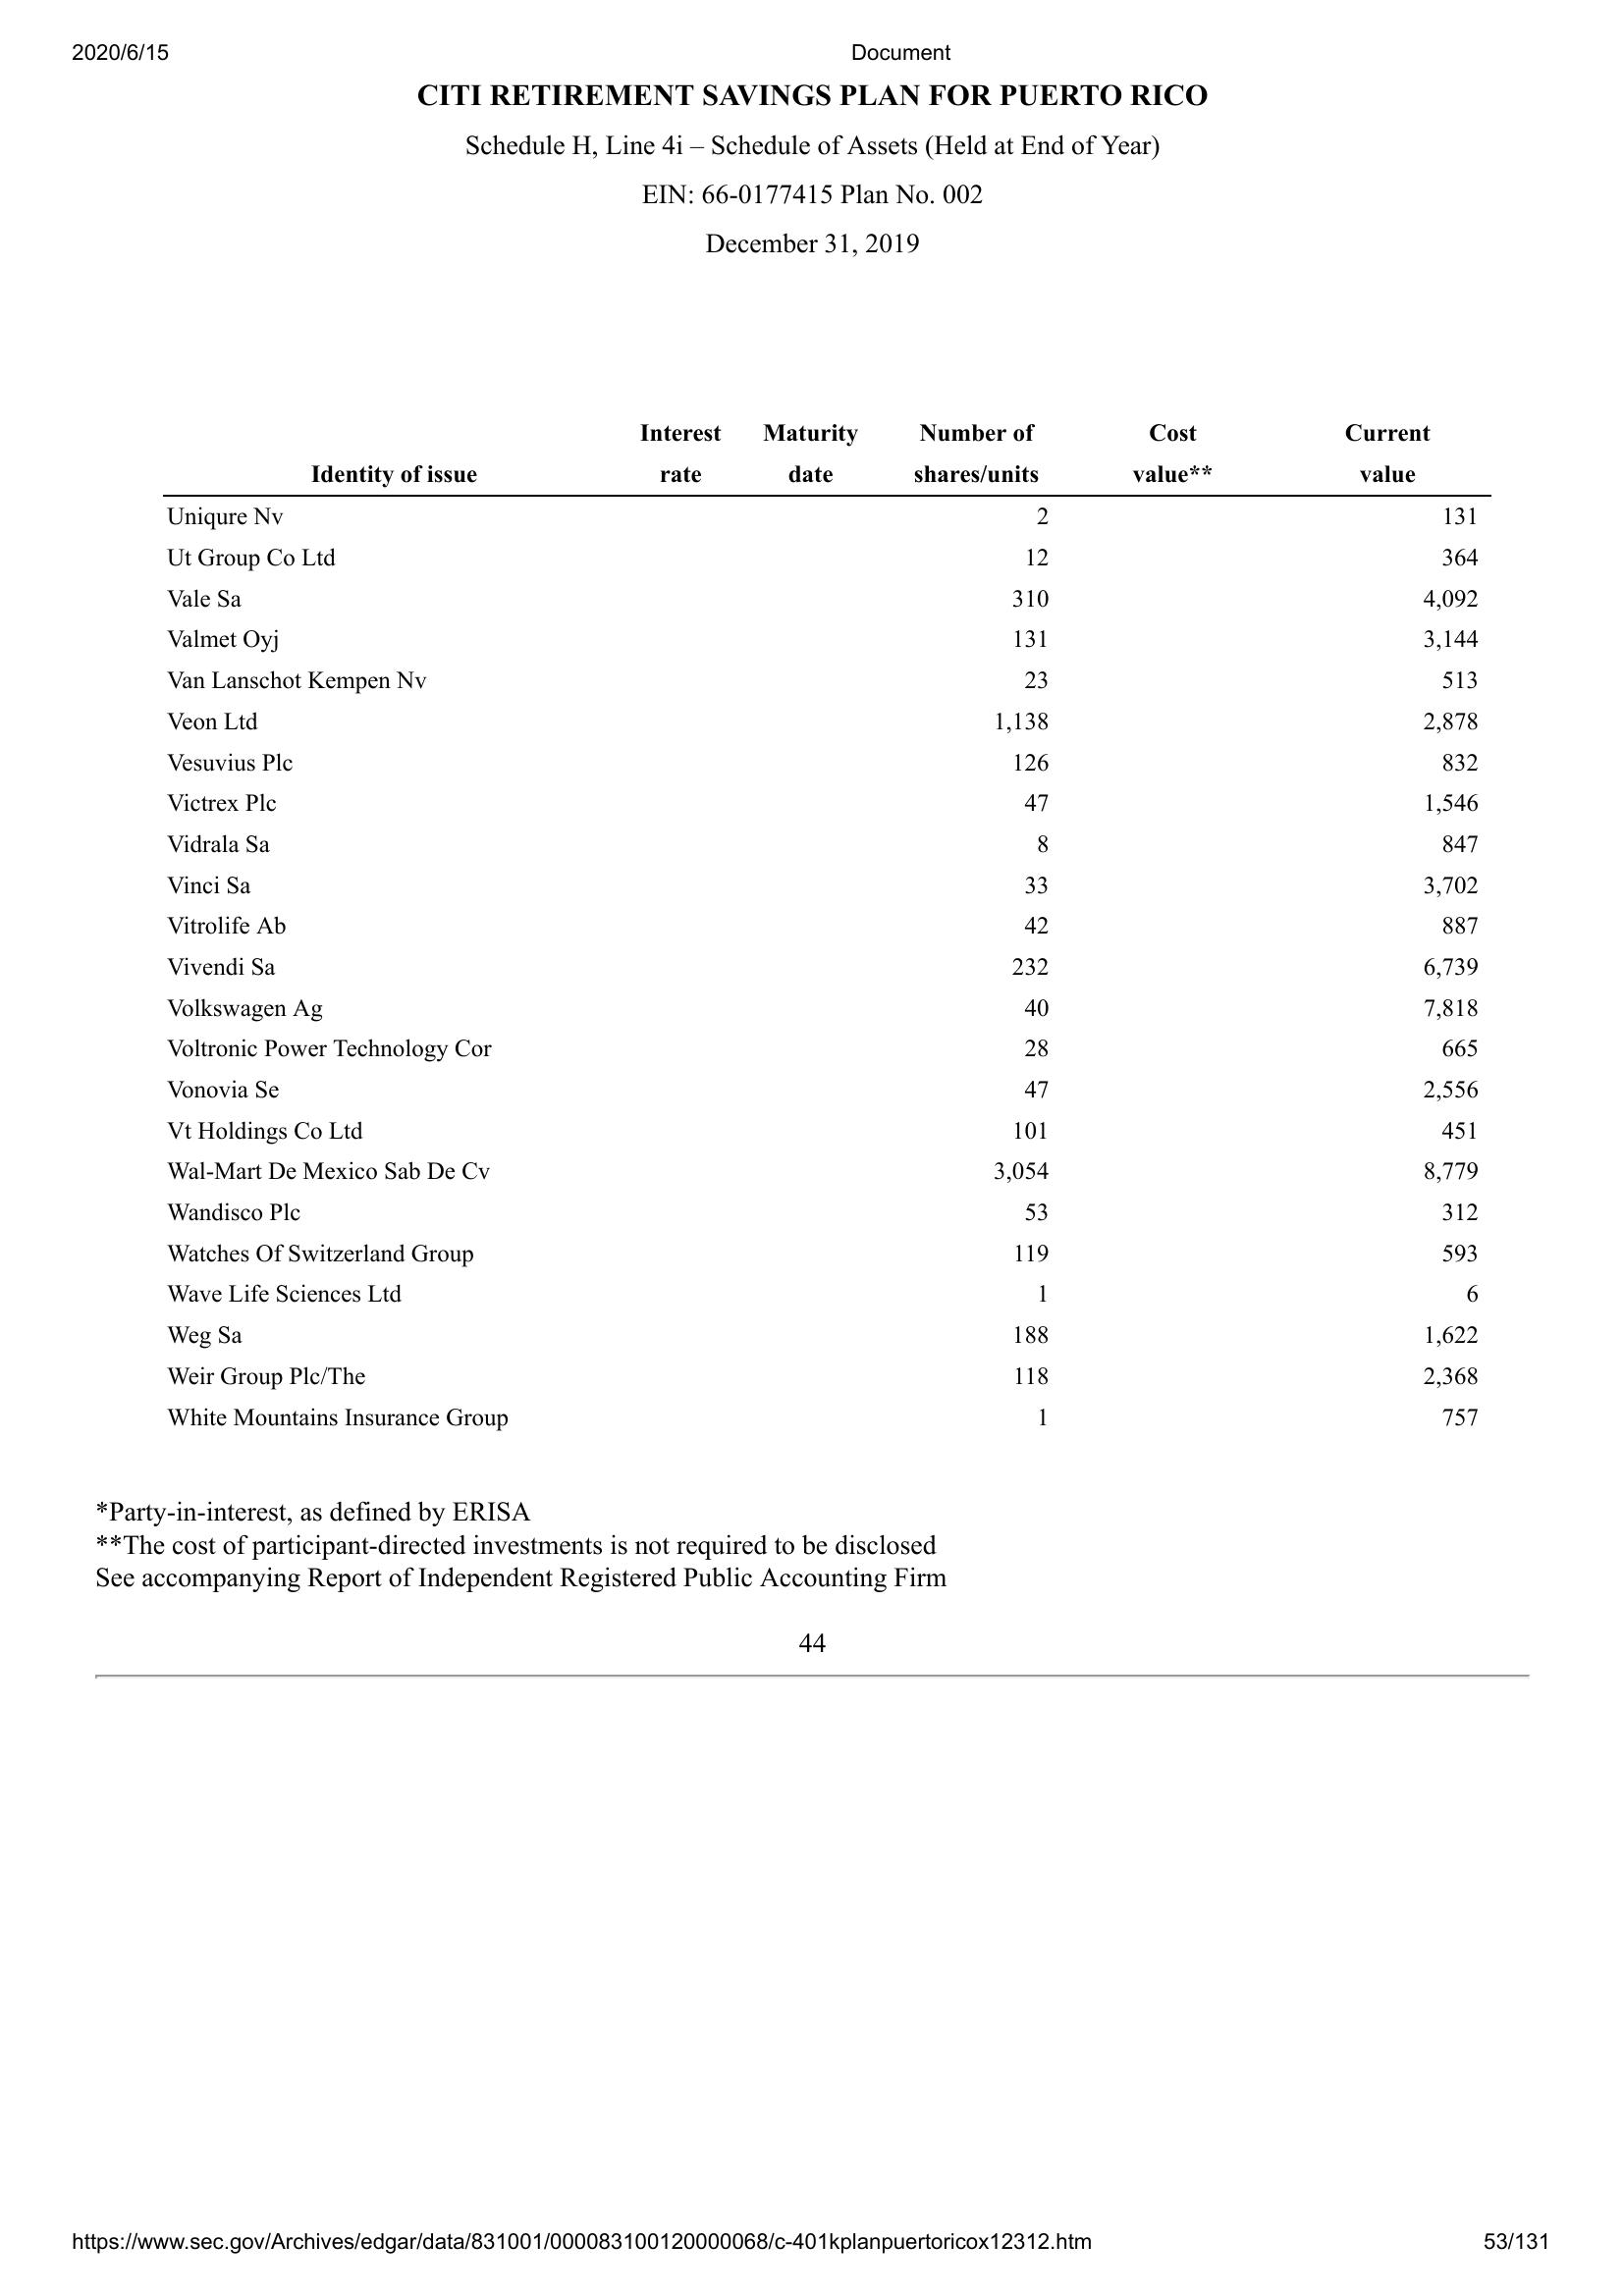table: (163, 418, 1493, 1439)
